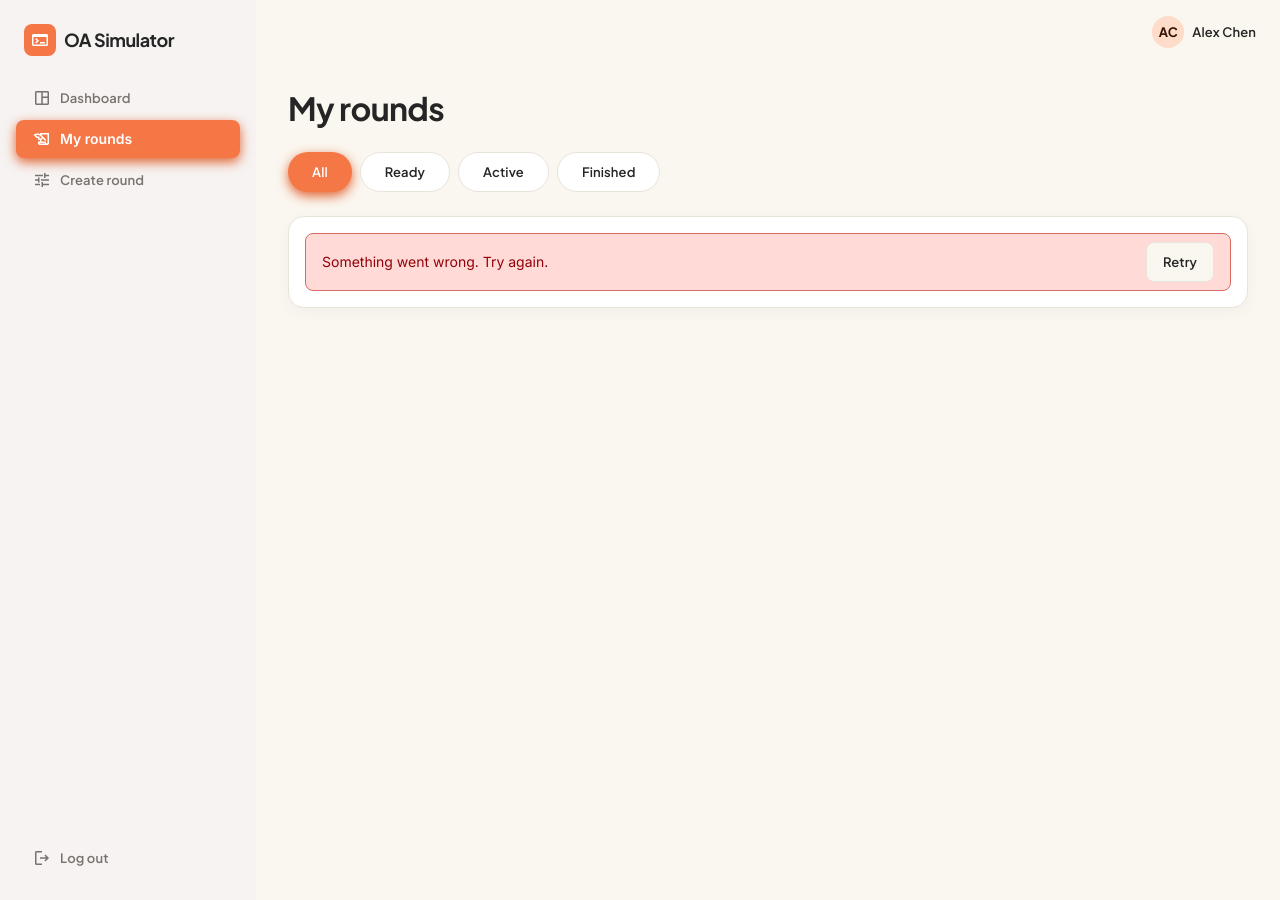
S6 My rounds › a server failure shows the message with Retry (never the empty state), and Retry recovers
Check: the text "No rounds yet" is not shown
Click the button "Retry". click: [1180, 262]
box: [1146,242,1214,282]
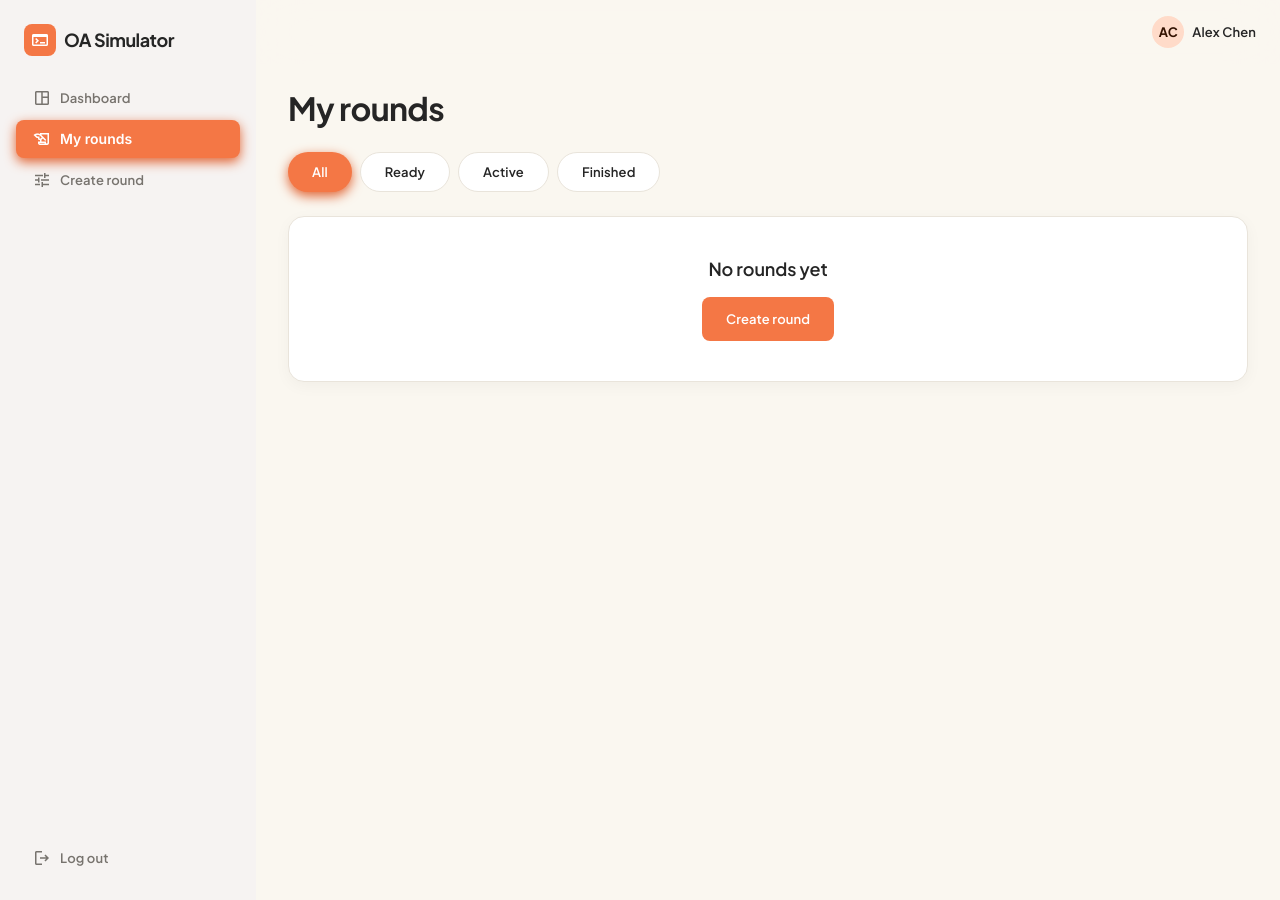
Check: the message "Something went wrong. Try again. Retry" is gone
